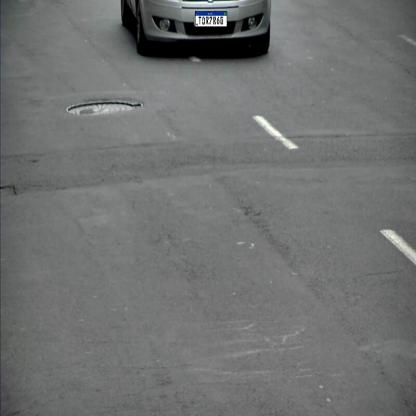PlacaM: (195, 11, 227, 27)
